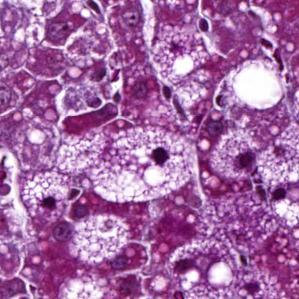ballooning: (89, 124, 198, 204), (20, 169, 75, 227)
